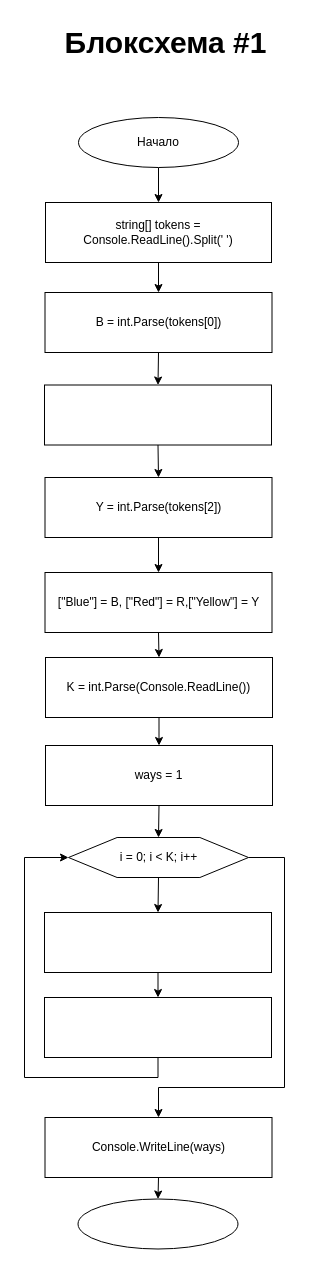
The diagram is 310 pixels wide and 1266 high, and some of its shapes have lost their labels. Here are the shapes that lost their labels. From the top down, the box of each, then its label:
(44, 384, 272, 445): R = int.Parse(tokens[1])
(44, 912, 272, 972): color = Console.ReadLine().Trim()
(44, 996, 272, 1058): ways *= colorCount[color]
(77, 1198, 238, 1249): Конец
